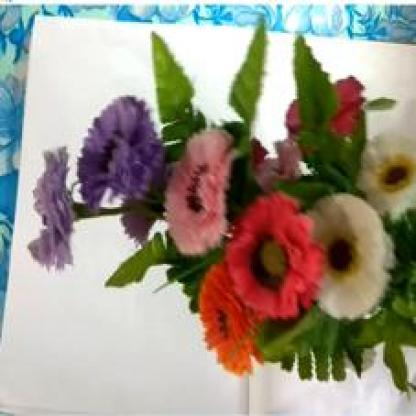flower: (37, 13, 403, 382)
